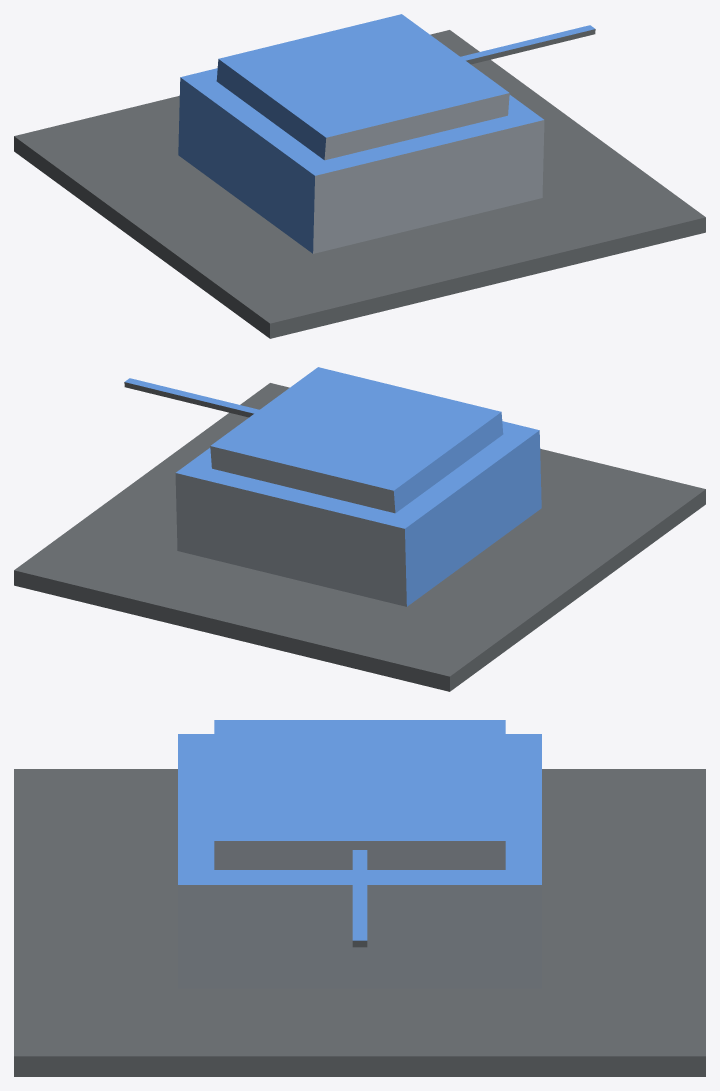
File: veyran_advanced_defences_heavily_damaged.glb
3 views of the same model, one above another, from view 1: azimuth 30°, elevation 25°; view 2: azimuth 150°, elevation 25°; view 3: azimuth 270°, elevation 25° (orthographic). The views are drawn at different scales.
Visible parts, largest first — view 1: hull, turret, barrel; view 2: hull, turret, barrel; view 3: hull, turret, barrel.
Part boxes in pixels (x1,y1,x2,y2): hull: [14, 30, 705, 338]; turret: [216, 14, 509, 160]; barrel: [460, 25, 595, 64]; hull: [14, 383, 705, 691]; turret: [210, 367, 503, 513]; barrel: [124, 378, 259, 417]; hull: [14, 734, 705, 1076]; turret: [214, 720, 505, 869]; barrel: [352, 850, 367, 947].
Bounding box in the file's own units: 7.72 × 1.88 × 7.6.
